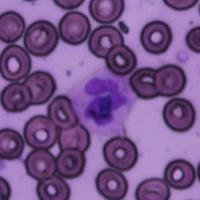N: (68, 68, 136, 136)
